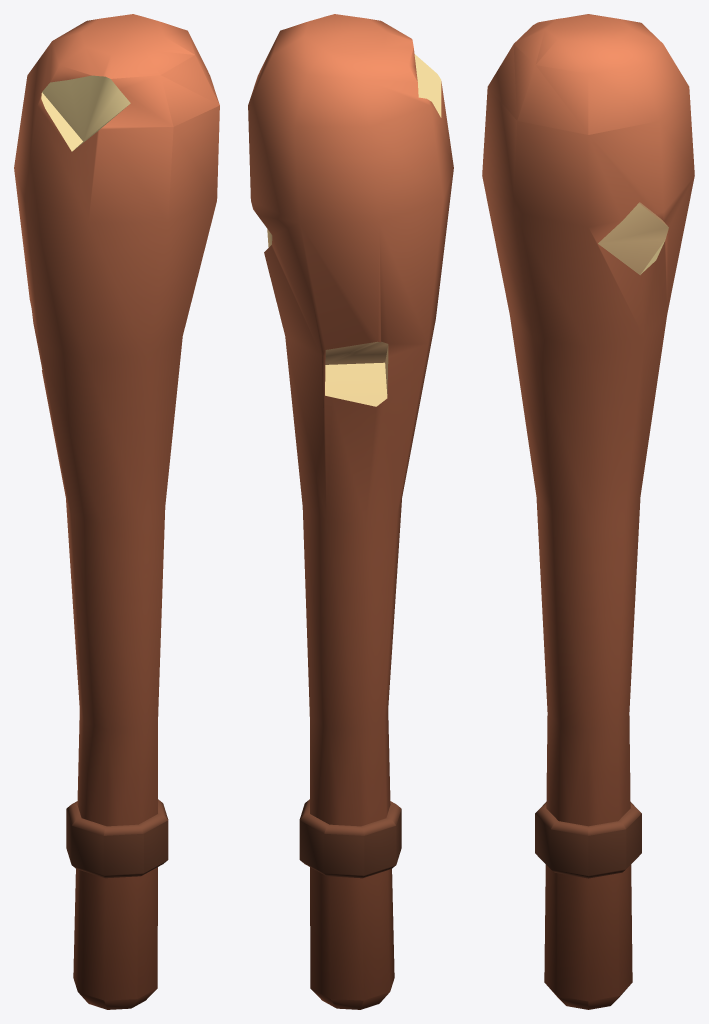
The model's file is club_wood_old.glb.
3 views of the same model, side by side, from view 1: azimuth 30°, elevation 25°; view 2: azimuth 150°, elevation 25°; view 3: azimuth 270°, elevation 25° (orthographic).
Visible parts, largest first — view 1: Item; view 2: Item; view 3: Item.
Part boxes in pixels (bbox=[...]): Item: bbox=[14, 14, 219, 1009]; Item: bbox=[248, 14, 453, 1009]; Item: bbox=[482, 14, 694, 1009].
Bounding box in the file's own units: 0.2744 × 1.37 × 0.27.
Materials: 1 (1 with a texture image).
